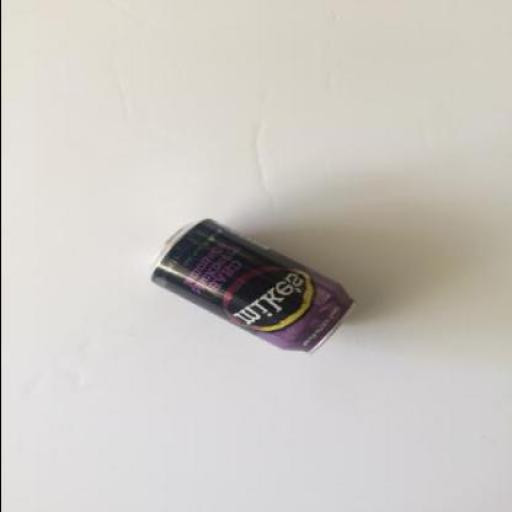metal: (150, 218, 355, 356)
